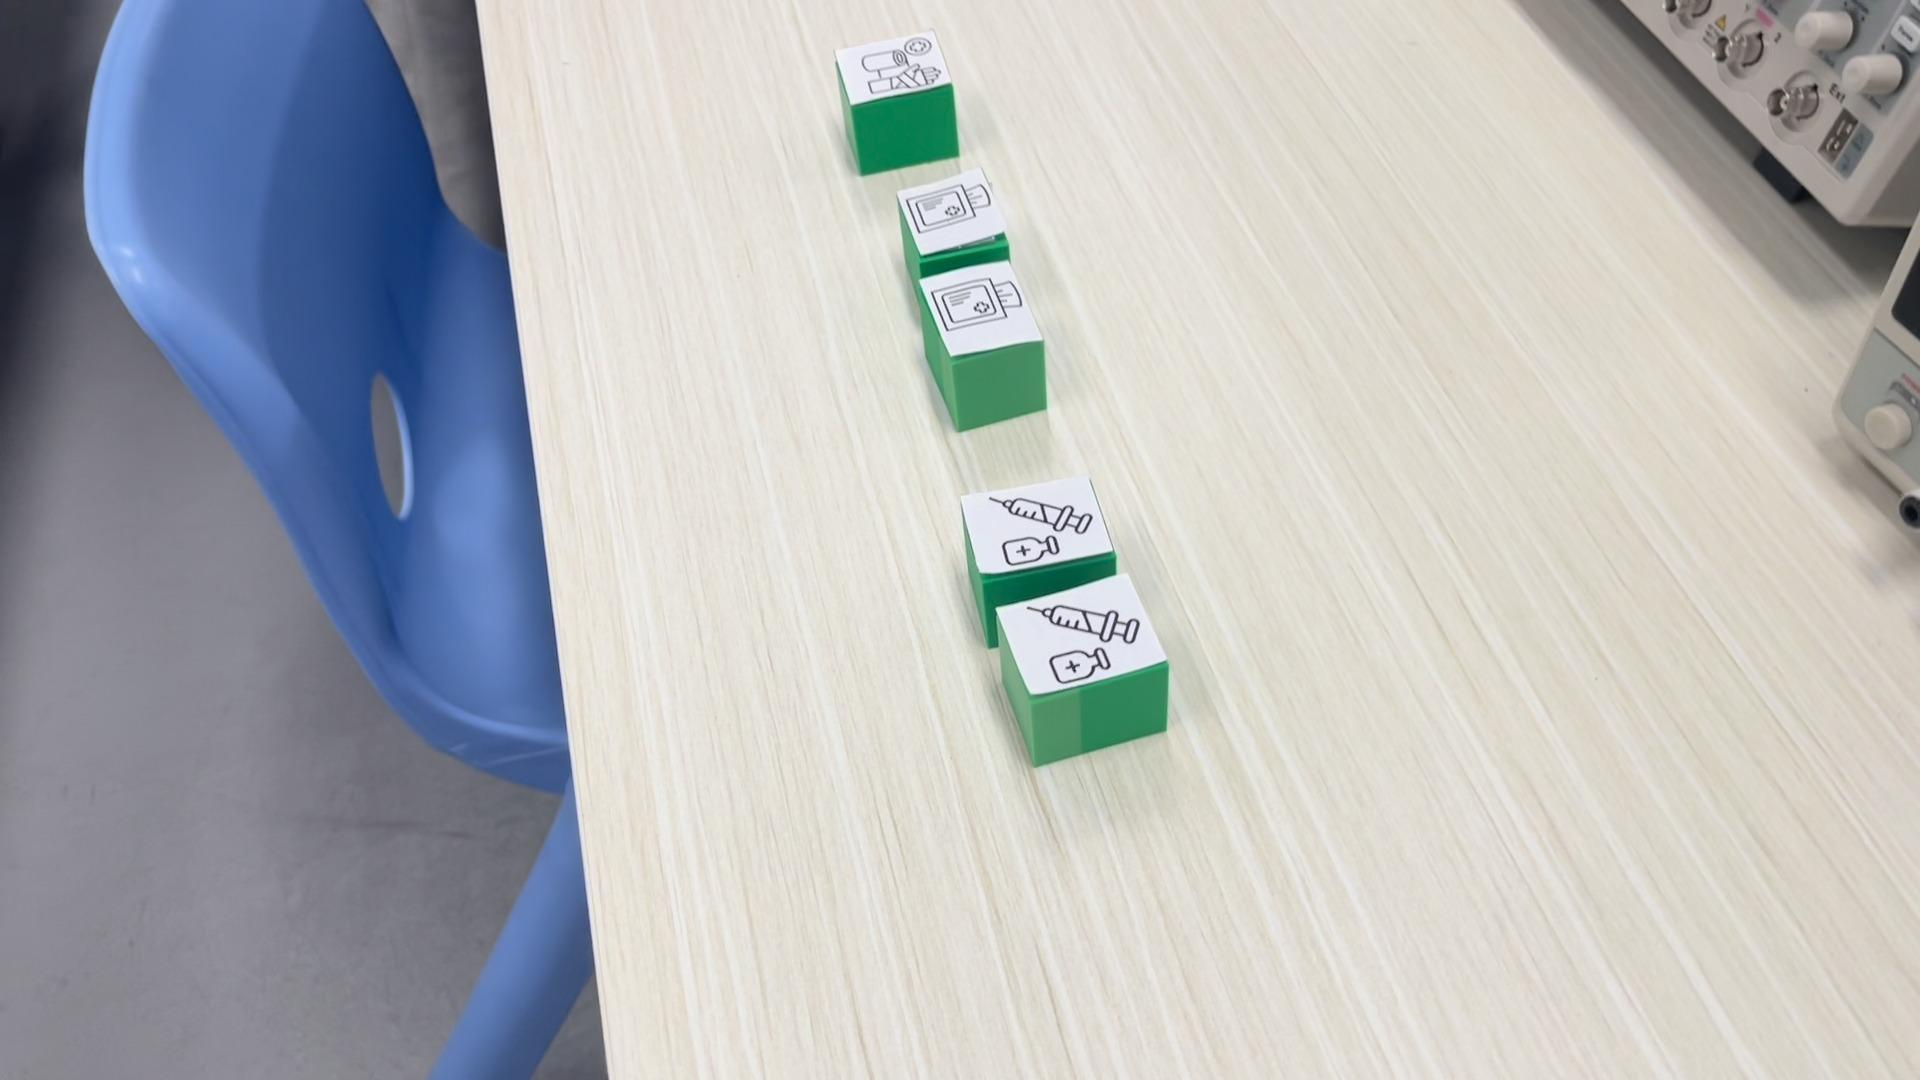Bandages: (833, 30, 959, 175)
Gauze: (916, 260, 1047, 433), (893, 169, 1007, 276)
antiseptic cream: (993, 571, 1171, 766), (956, 475, 1118, 595)
